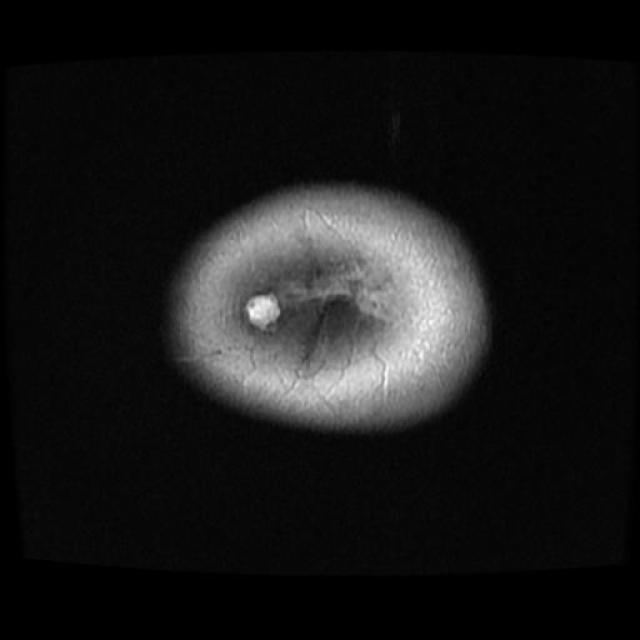Meningioma: (246, 294, 281, 330)
